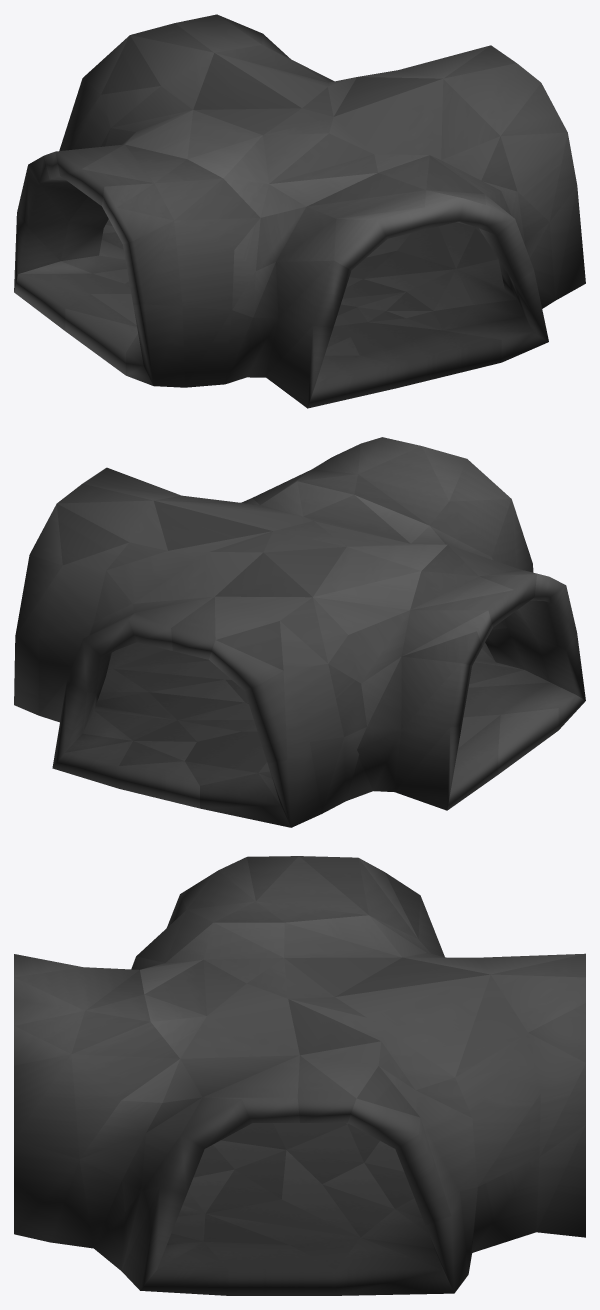
The model's file is GL-Cave-part-02.fbx.
3 renders of one model, top to bottom at view 1: azimuth 30°, elevation 25°; view 2: azimuth 150°, elevation 25°; view 3: azimuth 270°, elevation 25°, orthographic. The views are drawn at different scales.
Parts seen in each view (by area): view 1: GL-Cave-part-02; view 2: GL-Cave-part-02; view 3: GL-Cave-part-02.
Boxes of the visible parts, box(x1,y1,x2,y2) form: GL-Cave-part-02: box(14, 14, 585, 408); GL-Cave-part-02: box(14, 437, 585, 827); GL-Cave-part-02: box(14, 856, 585, 1295).
Bounding box in the file's own units: 6 × 2.32 × 6.
